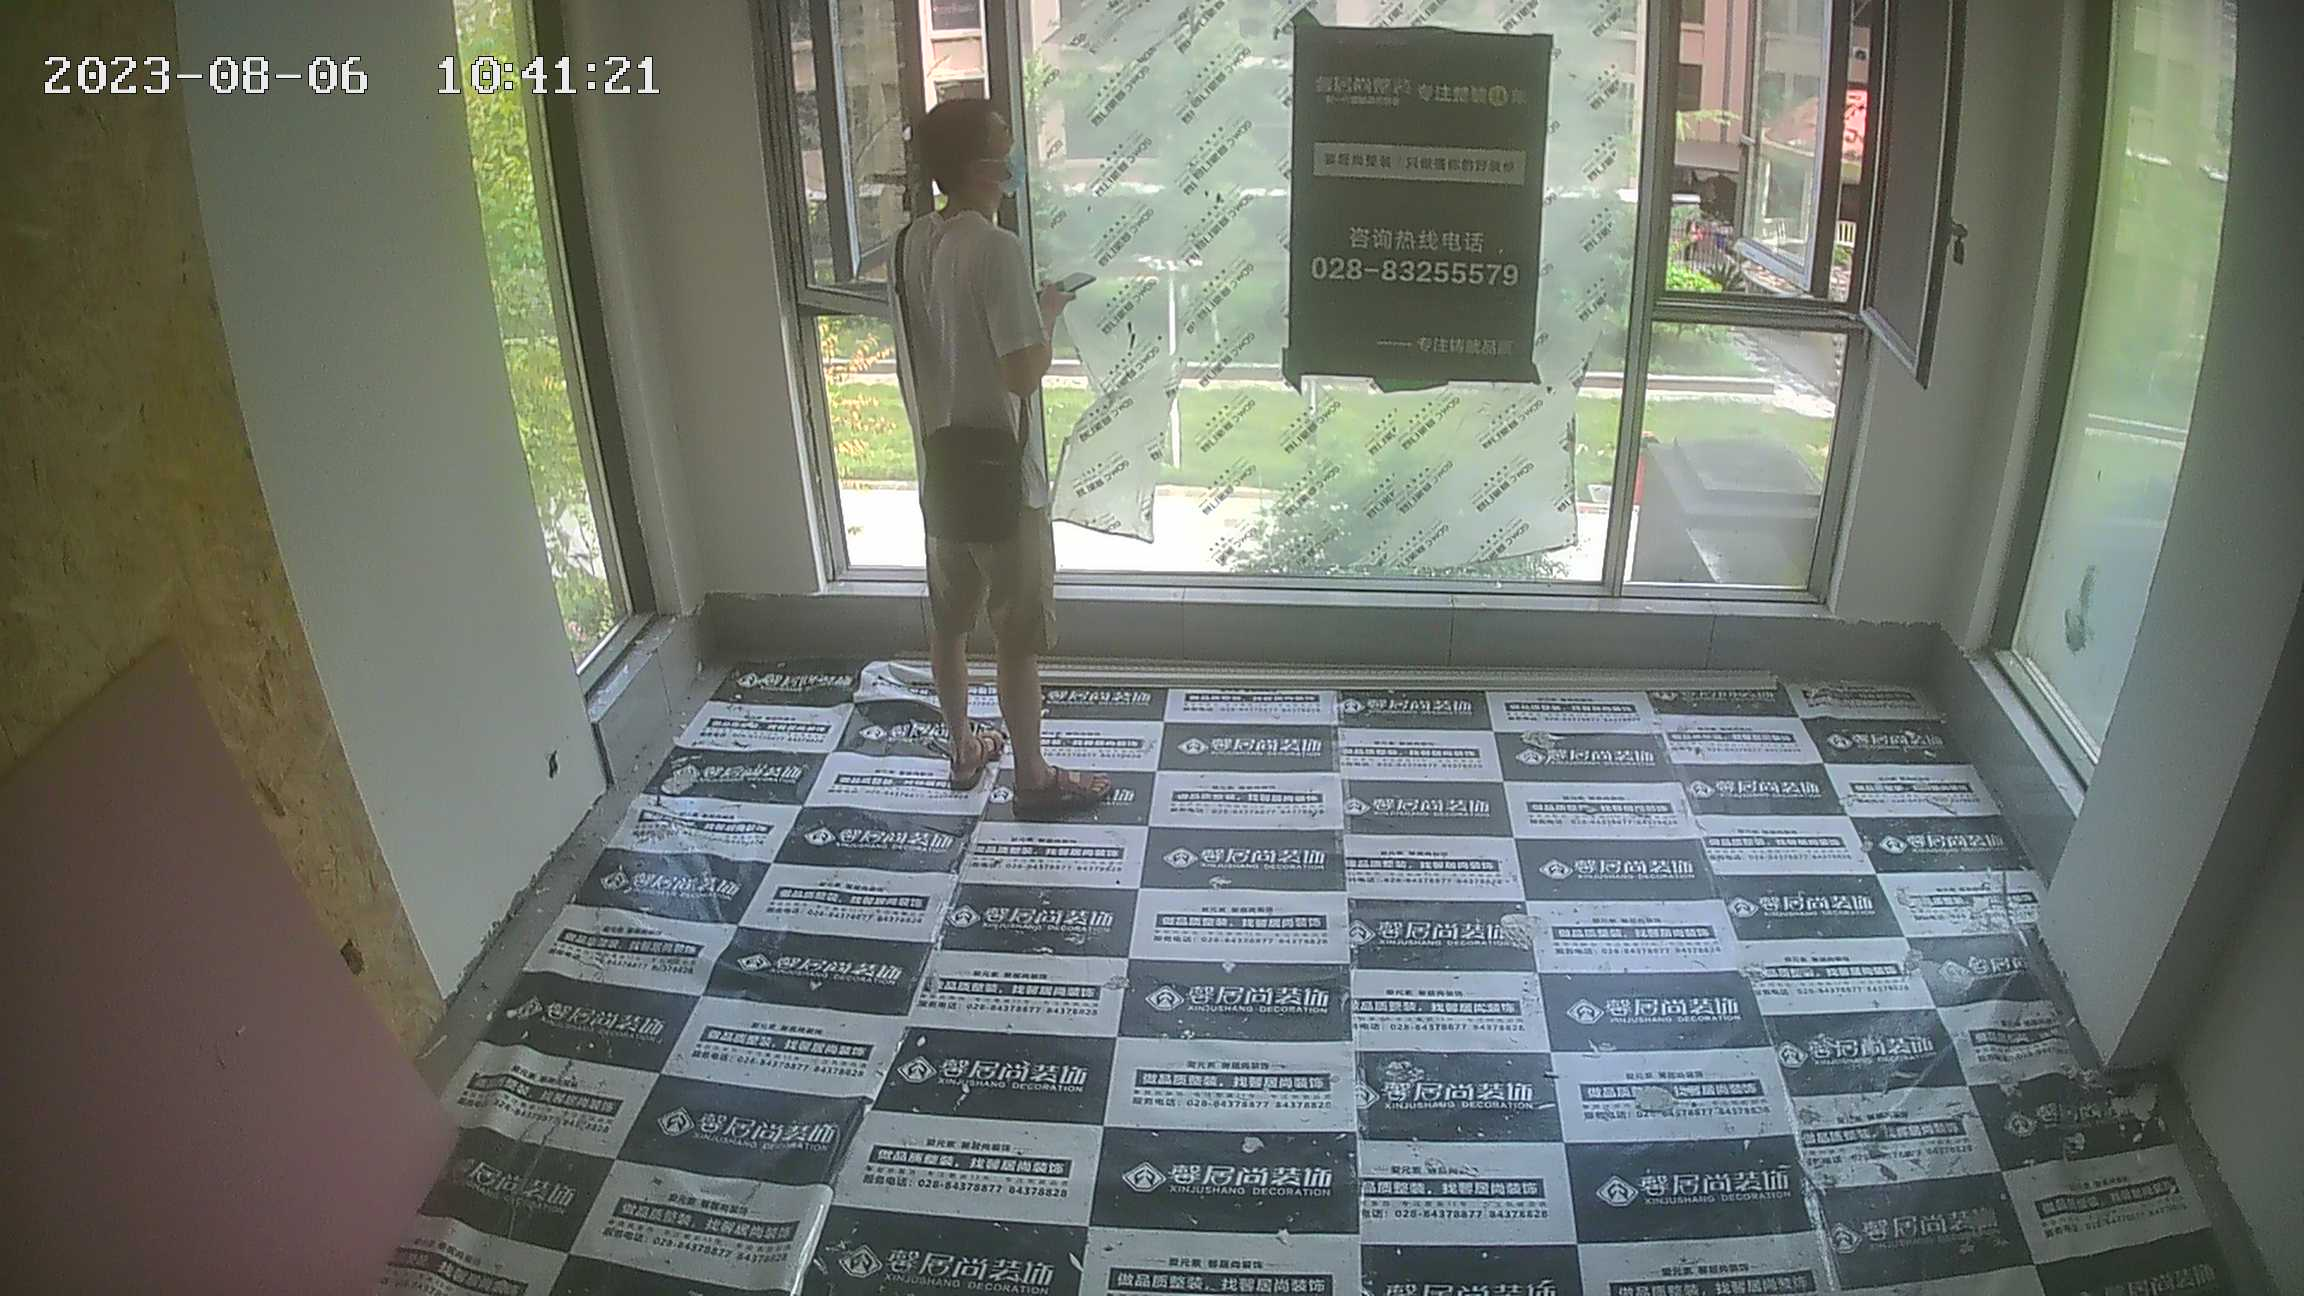people: (886, 98, 1122, 821)
window: (766, 8, 1861, 595), (2024, 4, 2232, 781), (453, 4, 655, 687)
